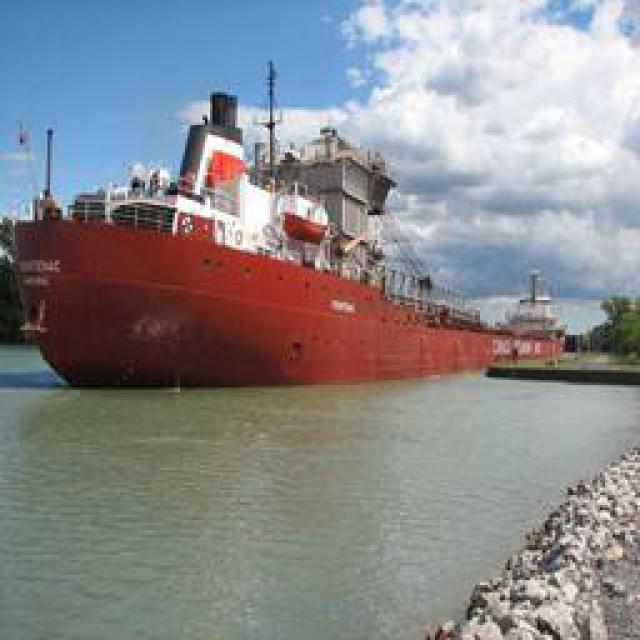Ship: (10, 77, 540, 390)
